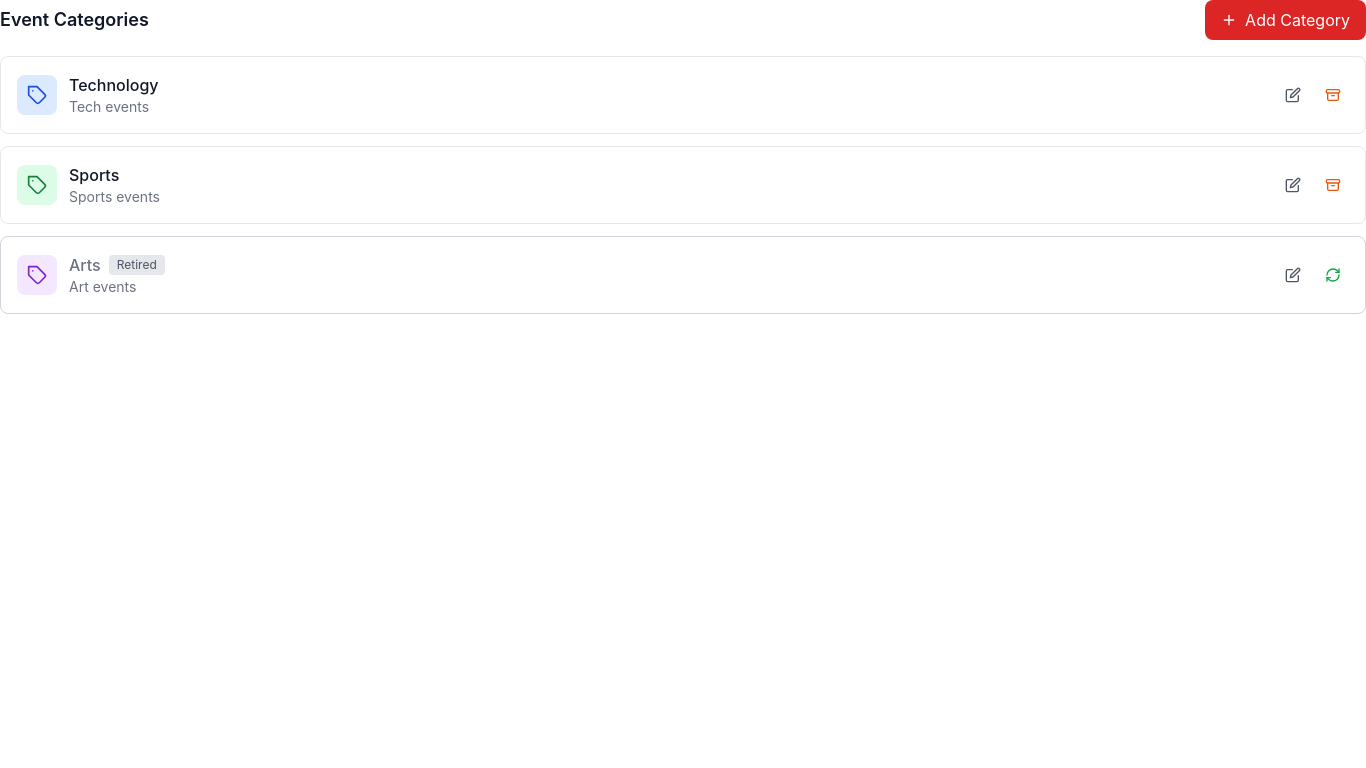
it: CategoryVenueManager Component - Complete Coverage › Retire/Reactivate Functionality › opens retire confirmation modal
What coordinates should you click on to do the following:
click the button titled "Retire" in the row of "Technology"
I would click on:
 (1333, 95)
Its box is top-left (1317, 79), bottom-right (1349, 111).
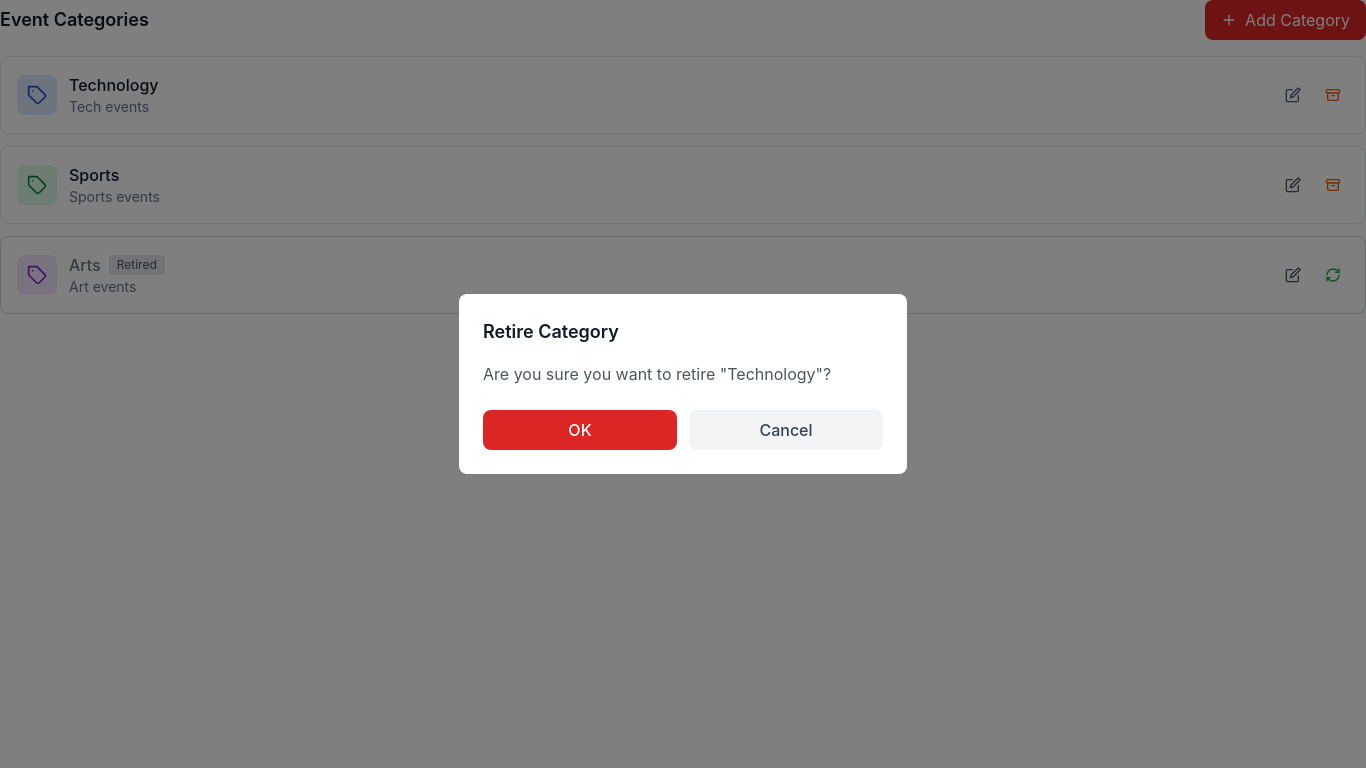
Result: the text "Are you sure you want to retire \"Technology\"?" is shown at top-left (483, 362), bottom-right (883, 386)
